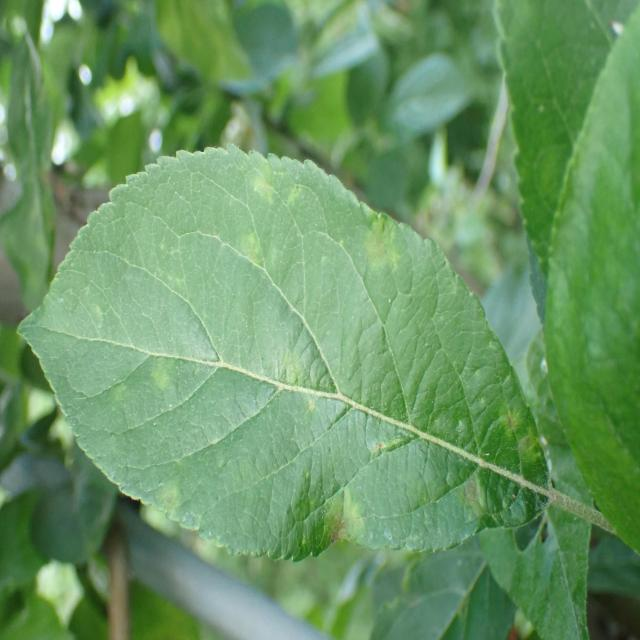scab: (72, 186, 545, 557)
